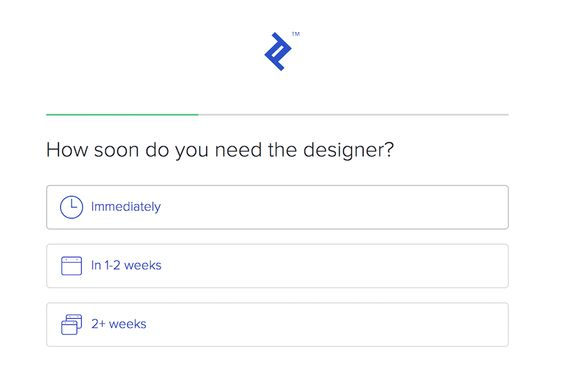_form_: (33, 81, 539, 370)
button: (45, 184, 511, 231), (45, 302, 510, 348), (46, 243, 510, 289)
